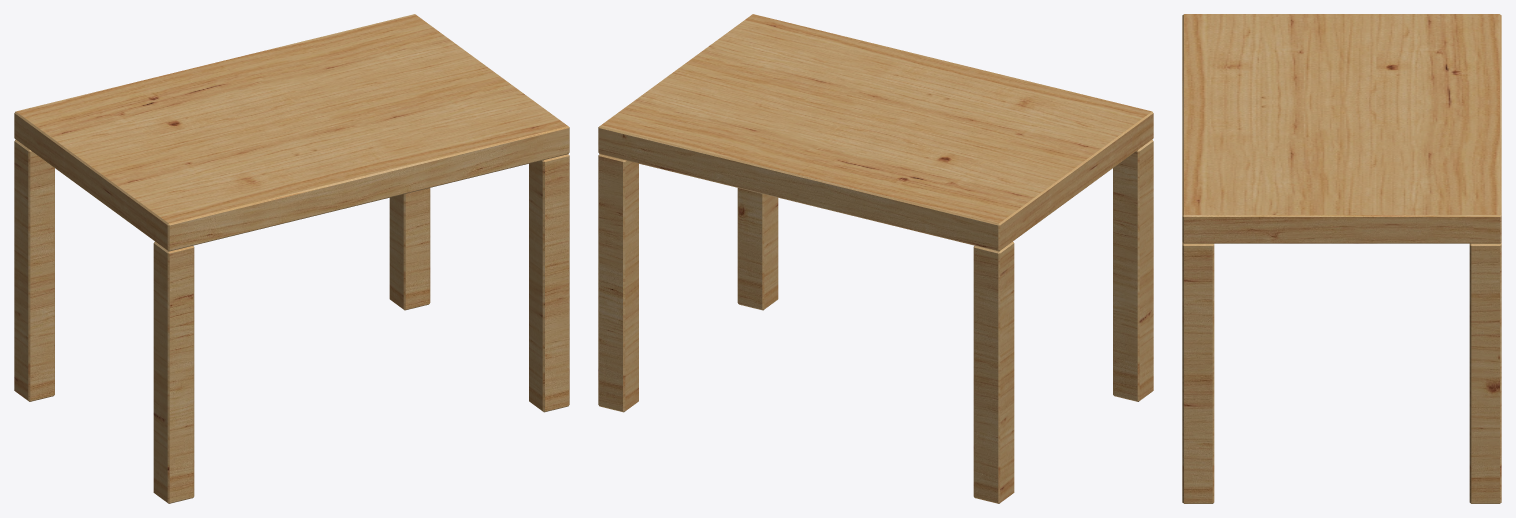
The model's file is workbench.dae.
3 renders of one model, left to right at view 1: azimuth 30°, elevation 25°; view 2: azimuth 150°, elevation 25°; view 3: azimuth 270°, elevation 25°, orthographic. The views are drawn at different scales.
Visible parts, largest first — view 1: Cube; view 2: Cube; view 3: Cube.
Boxes of the visible parts, x1,y1,x2,y2 form: Cube: (14, 14, 569, 503); Cube: (598, 14, 1153, 503); Cube: (1182, 14, 1501, 503).
Size of the model in its own units: 3 by 2 by 2.
1 material, 1 textured.
